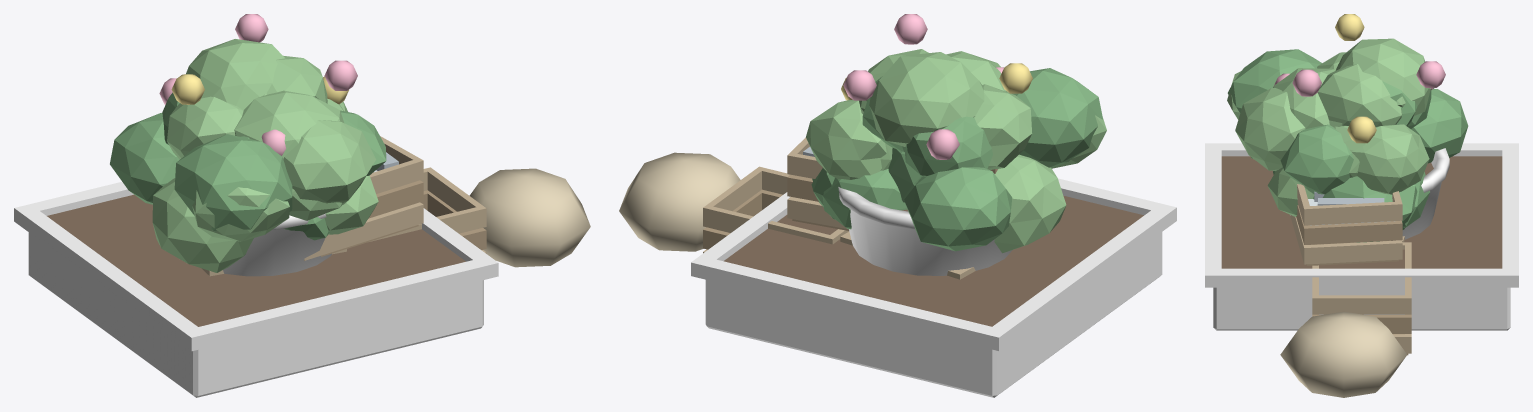
Rendered from pearl_dock.glb.
The picture shows the model from 3 angles, left to right: view 1: azimuth 30°, elevation 25°; view 2: azimuth 150°, elevation 25°; view 3: azimuth 270°, elevation 25°; orthographic projection. The views are drawn at different scales.
Visible parts, largest first — view 1: pd_planter_plants_mesh, pd_planter_paint_mesh, pd_crates_mesh, pd_pot_plants_mesh, pd_pot_paint_mesh; view 2: pd_planter_plants_mesh, pd_planter_paint_mesh, pd_pot_plants_mesh, pd_crates_mesh, pd_pot_paint_mesh; view 3: pd_planter_plants_mesh, pd_planter_paint_mesh, pd_crates_mesh, pd_pot_plants_mesh, pd_pot_paint_mesh.
Part boxes in pixels (left/top/right/bottom): pd_planter_plants_mesh: left=47, top=90, right=465, bottom=326; pd_planter_paint_mesh: left=14, top=182, right=498, bottom=397; pd_crates_mesh: left=202, top=136, right=590, bottom=276; pd_pot_plants_mesh: left=159, top=14, right=386, bottom=220; pd_pot_paint_mesh: left=223, top=213, right=331, bottom=276; pd_planter_plants_mesh: left=724, top=51, right=1143, bottom=326; pd_planter_paint_mesh: left=691, top=178, right=1176, bottom=397; pd_pot_plants_mesh: left=806, top=14, right=1032, bottom=211; pd_crates_mesh: left=619, top=137, right=975, bottom=279; pd_pot_paint_mesh: left=838, top=187, right=1012, bottom=275; pd_planter_plants_mesh: left=1221, top=49, right=1502, bottom=268; pd_planter_paint_mesh: left=1205, top=143, right=1518, bottom=330; pd_crates_mesh: left=1280, top=184, right=1411, bottom=397; pd_pot_plants_mesh: left=1251, top=14, right=1445, bottom=194; pd_pot_paint_mesh: left=1290, top=148, right=1449, bottom=239.
Bounding box in the file's own units: 2.9 × 1.57 × 1.9.
